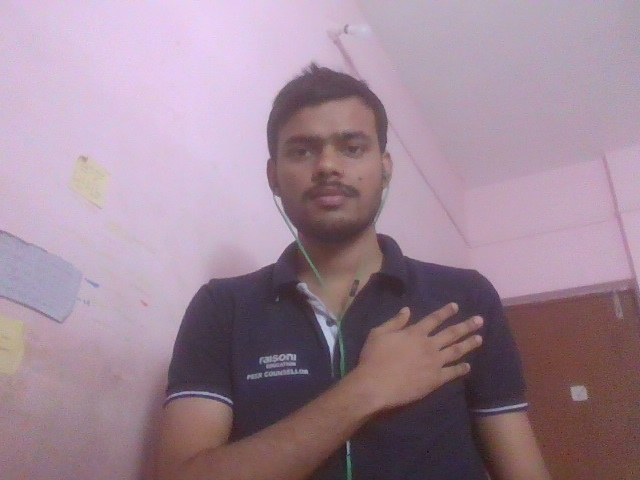Please: (253, 290, 526, 449)
